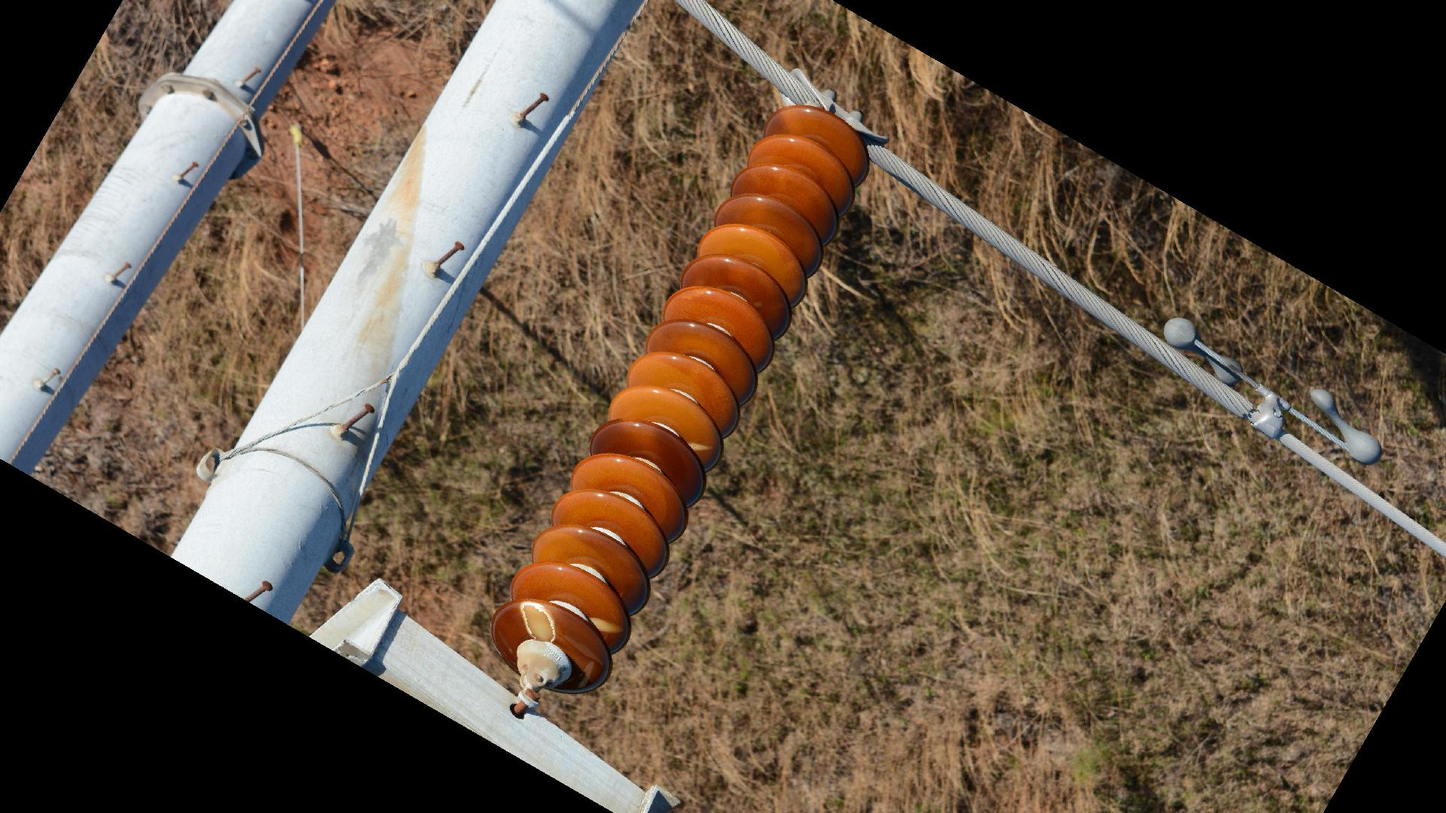insulator: (484, 98, 879, 698)
insulator_flashover: (520, 600, 557, 644), (585, 615, 625, 635), (685, 440, 713, 453)
